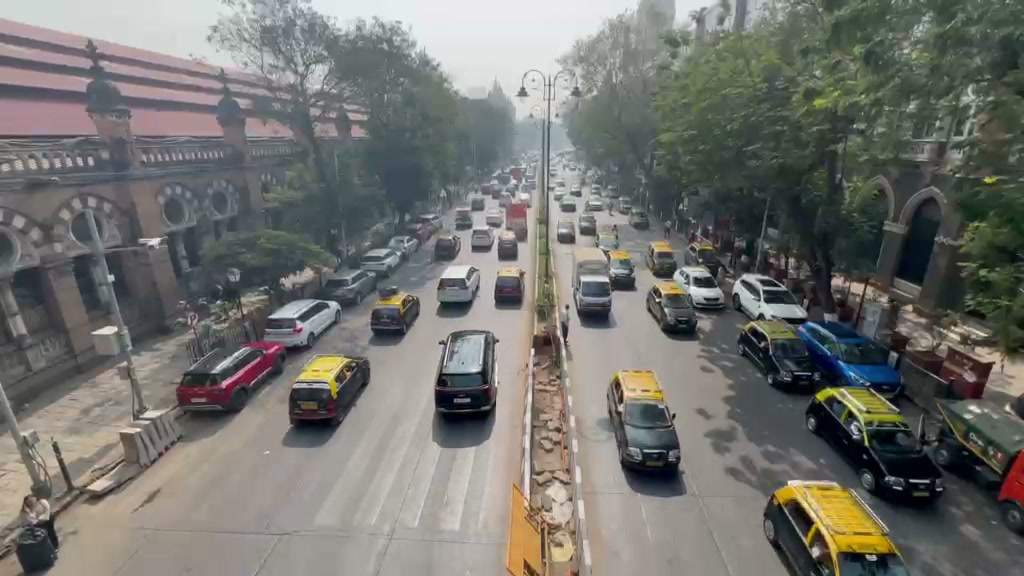bus: (898, 308, 1001, 399)
car: (761, 479, 911, 576), (797, 319, 905, 400), (174, 341, 287, 415), (606, 367, 682, 476), (737, 316, 817, 393), (288, 353, 371, 426), (433, 328, 499, 418), (262, 297, 342, 350), (732, 273, 808, 322), (645, 282, 698, 336), (318, 267, 378, 309), (369, 287, 421, 335), (996, 446, 1023, 537), (673, 265, 726, 311), (574, 268, 614, 321), (436, 263, 481, 306), (359, 246, 402, 277), (493, 268, 525, 309), (607, 253, 636, 290), (432, 233, 460, 261), (386, 233, 419, 254), (470, 227, 494, 251)
pedestrian: (20, 494, 61, 551)
truck: (804, 384, 946, 503), (760, 479, 911, 575)
